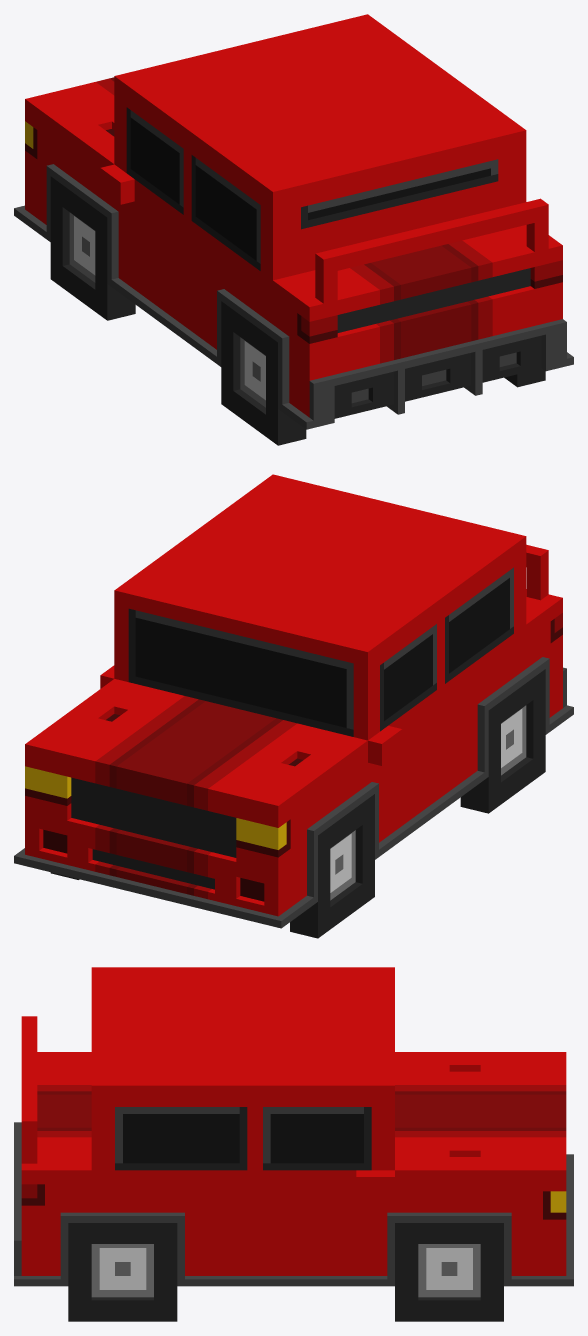
3 renders of one model, top to bottom at view 1: azimuth 30°, elevation 25°; view 2: azimuth 150°, elevation 25°; view 3: azimuth 270°, elevation 25°, orthographic. The views are drawn at different scales.
Visible parts, largest first — view 1: alll cars3-163; view 2: alll cars3-163; view 3: alll cars3-163.
Part boxes in pixels (left/top/right/bottom): alll cars3-163: left=14, top=14, right=573, bottom=445; alll cars3-163: left=14, top=474, right=573, bottom=938; alll cars3-163: left=14, top=967, right=573, bottom=1321.
Size of the model in its own units: 3.22 by 2.66 by 5.79.
Materials: 1 (1 with a texture image).
